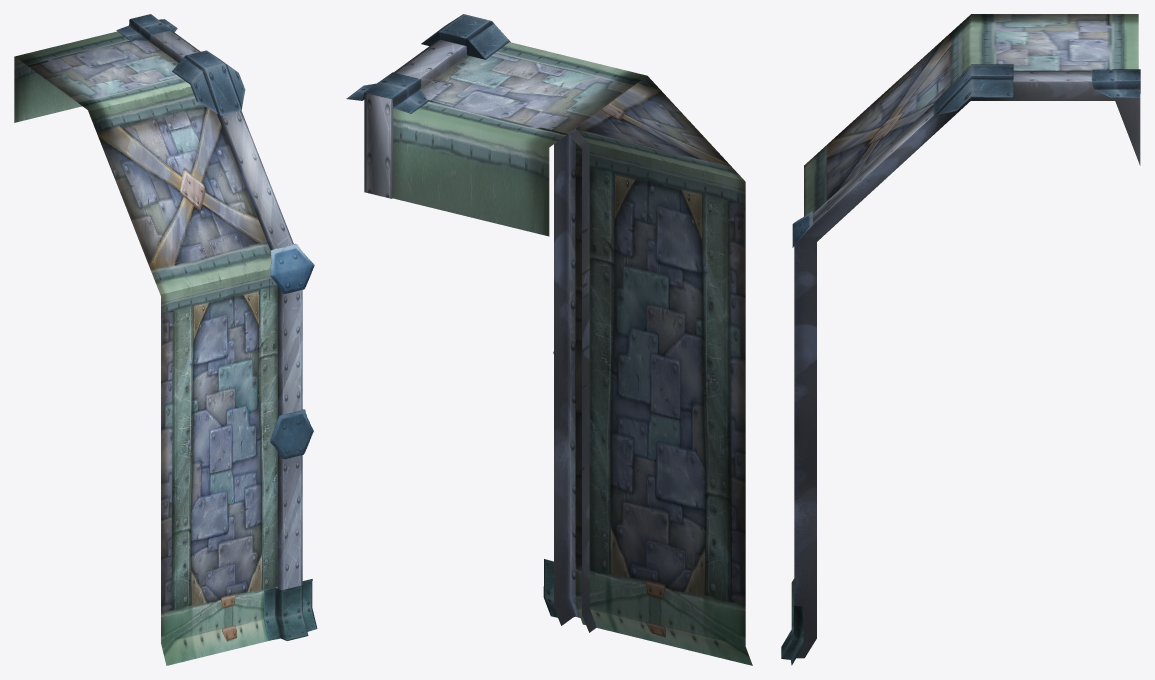
Rendered from obj_madaprrevetmentiron1801.glb.
3 views of the same model, side by side, from view 1: azimuth 30°, elevation 25°; view 2: azimuth 150°, elevation 25°; view 3: azimuth 270°, elevation 25° (orthographic). The views are drawn at different scales.
Visible parts, largest first — view 1: part_0; view 2: part_0; view 3: part_0.
Part boxes in pixels (box(x1,y1,x2,y2)): part_0: box(14, 14, 317, 665); part_0: box(346, 14, 752, 665); part_0: box(781, 14, 1140, 665).
Bounding box in the file's own units: 4.76 × 15.38 × 8.6.
1 material, 1 textured.
